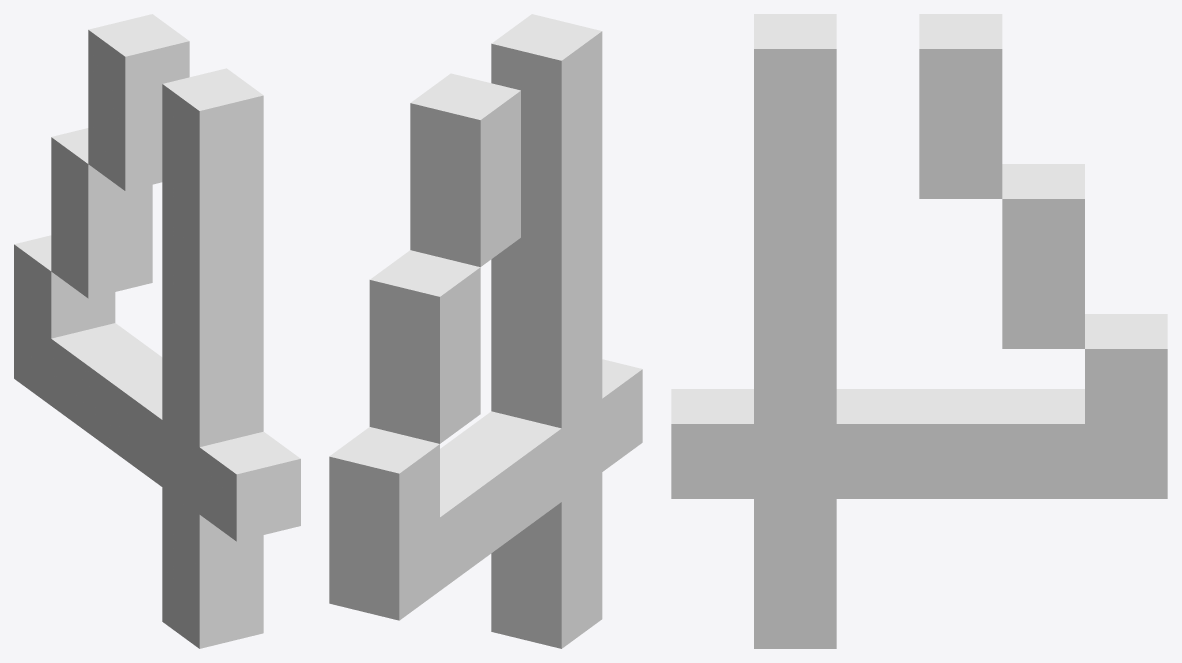
File: dig_4.obj
The picture shows the model from 3 angles, left to right: view 1: azimuth 30°, elevation 25°; view 2: azimuth 150°, elevation 25°; view 3: azimuth 270°, elevation 25°; orthographic projection. The views are drawn at different scales.
Size of the model in its own units: 0.1 by 0.8 by 0.6.
Materials: 1 (1 with a texture image).
